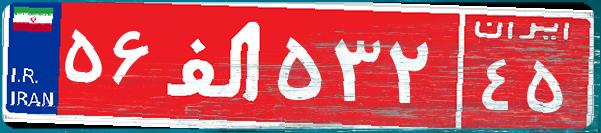2: (385, 28, 445, 110)
3: (330, 28, 385, 110)
4: (475, 38, 525, 113)
5: (273, 28, 330, 110), (57, 26, 110, 107), (525, 38, 570, 115)
6: (110, 28, 158, 105)
الف: (158, 15, 273, 115)
